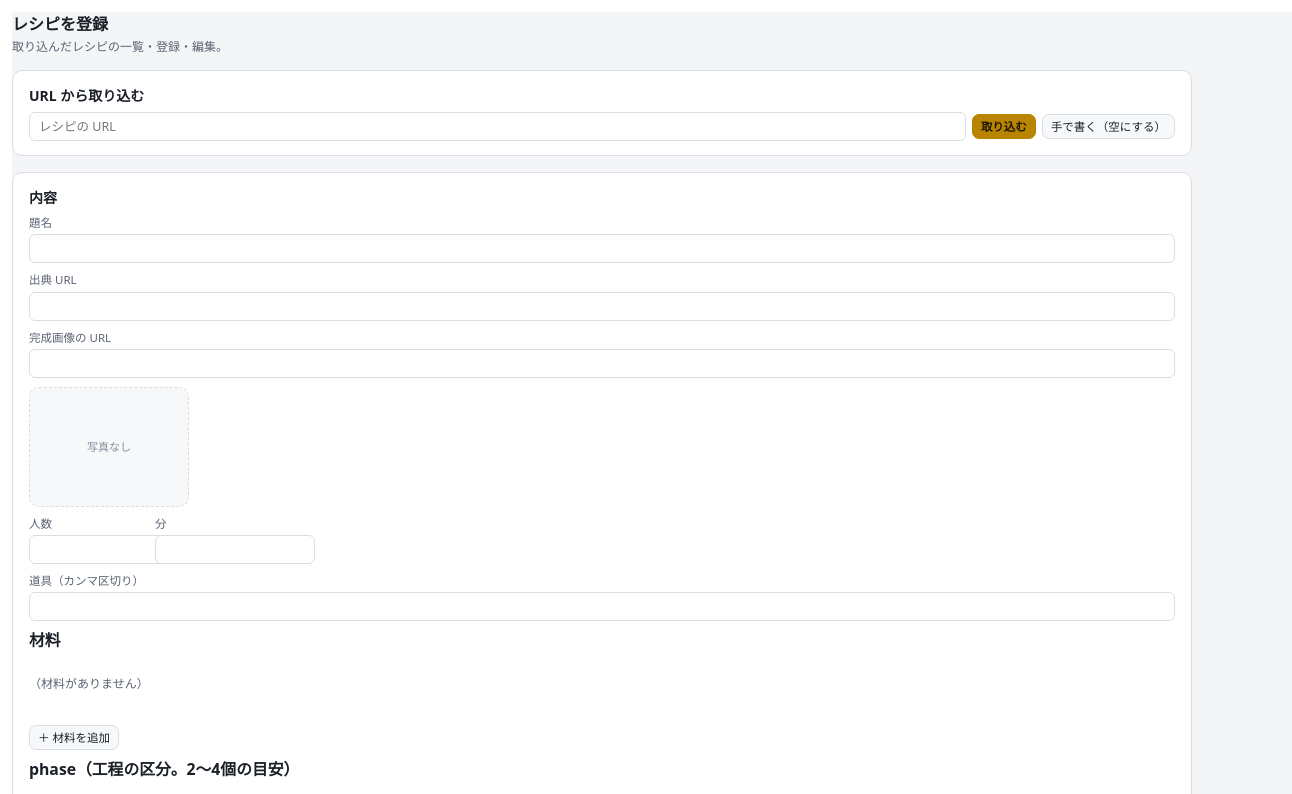
Test: kitchen recipes — 登録・取り込み（ADR-015 D2・D4・§6 D7） › 汎用の抽出で warnings が多いとき、Claude を勧める一文が出る
The image size is (1292, 794).
In the field with placeholder "レシピの URL": {"x": 497, "y": 126} [29,112,966,141], type "https://unknown-site.example/x"
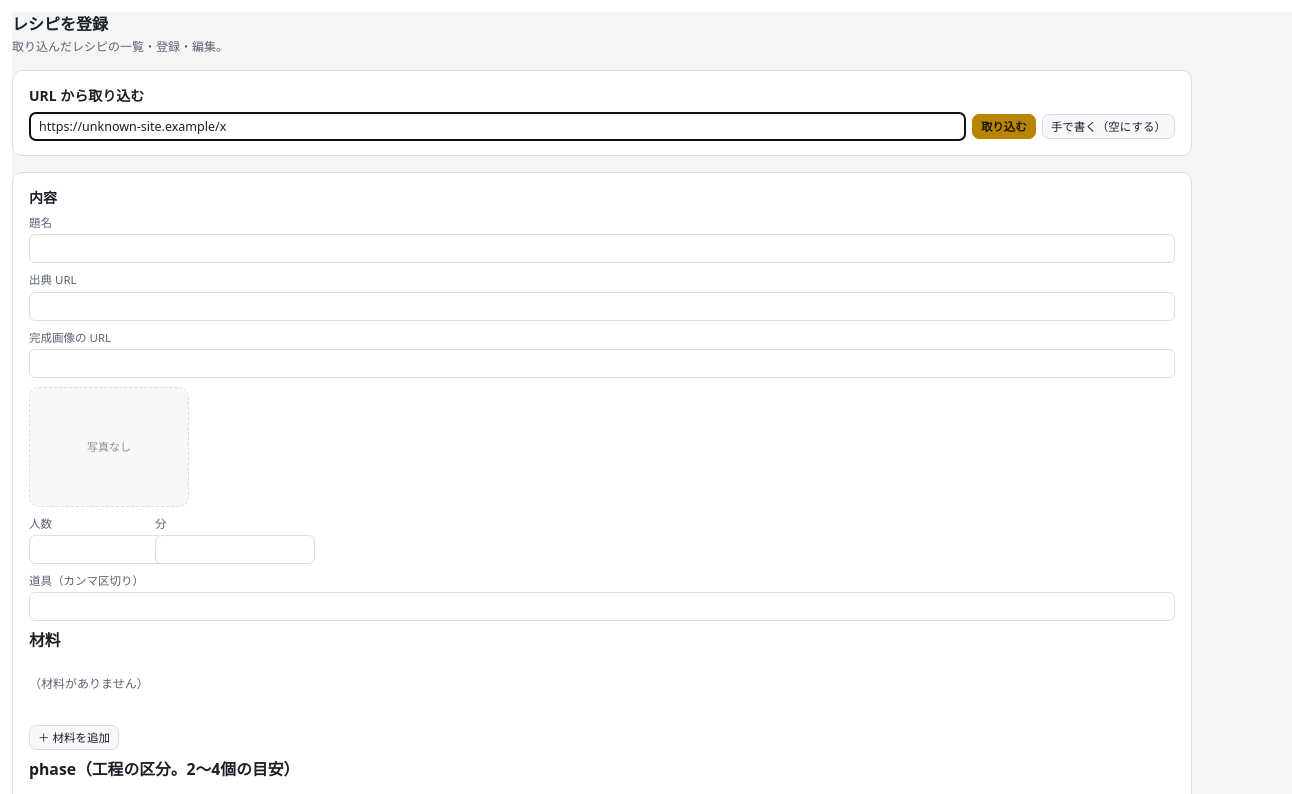
Click the button "取り込む": {"x": 1004, "y": 127} [972,114,1036,139]
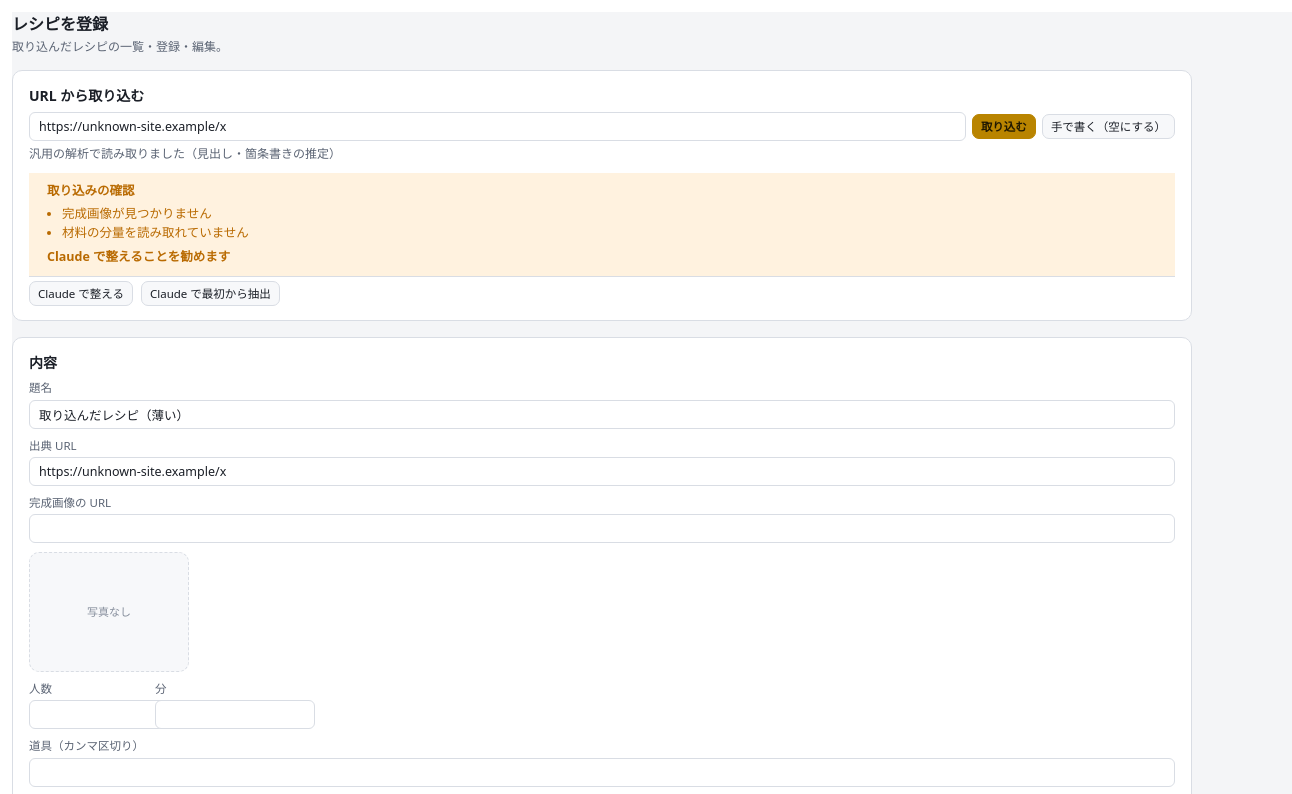
Now the text "汎用の解析で読み取りました（見出し・箇条書きの推定）" is shown, box [29,145,341,162]
Now the text "Claude で整えることを勧めます" is shown, box [47,248,230,265]
